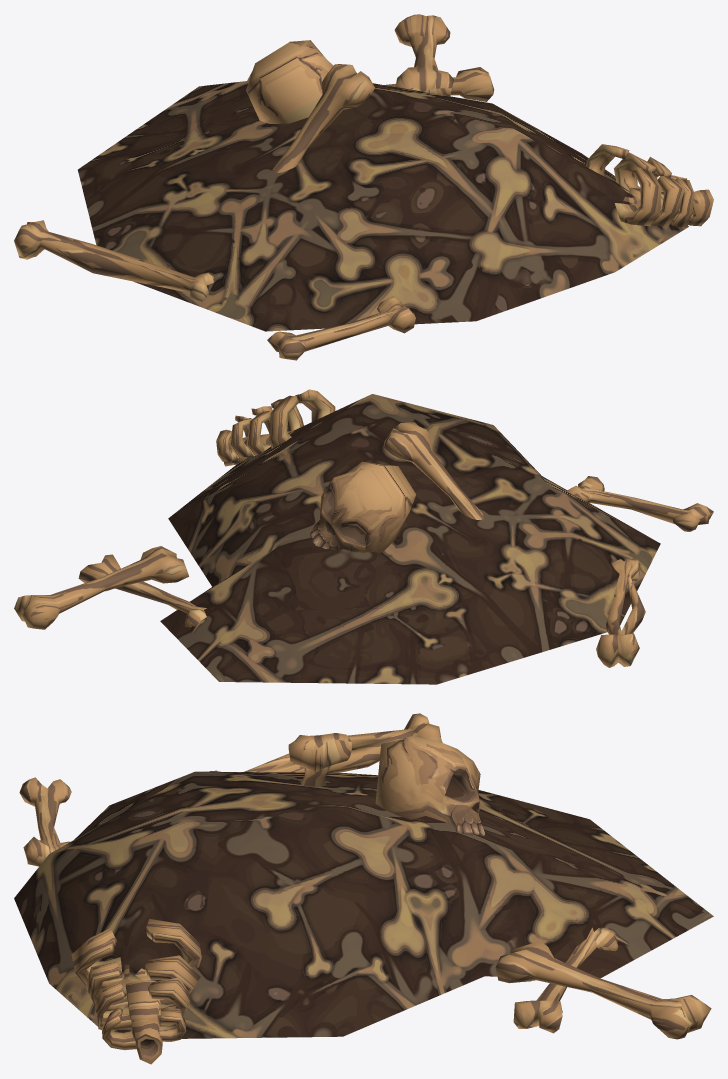
File: SM_PROP_skeleton_bonepile_dungeon_01.fbx
3 renders of one model, top to bottom at view 1: azimuth 30°, elevation 25°; view 2: azimuth 150°, elevation 25°; view 3: azimuth 270°, elevation 25°, orthographic. The views are drawn at different scales.
Visible parts, largest first — view 1: SM_PROP_skeleton_bonepile_dungeon_01; view 2: SM_PROP_skeleton_bonepile_dungeon_01; view 3: SM_PROP_skeleton_bonepile_dungeon_01.
Part boxes in pixels (x1=…): SM_PROP_skeleton_bonepile_dungeon_01: x1=14, y1=14, x2=713, y2=360; SM_PROP_skeleton_bonepile_dungeon_01: x1=14, y1=389, x2=713, y2=684; SM_PROP_skeleton_bonepile_dungeon_01: x1=14, y1=713, x2=713, y2=1064.
Bounding box in the file's own units: 150 × 41.59 × 144.
